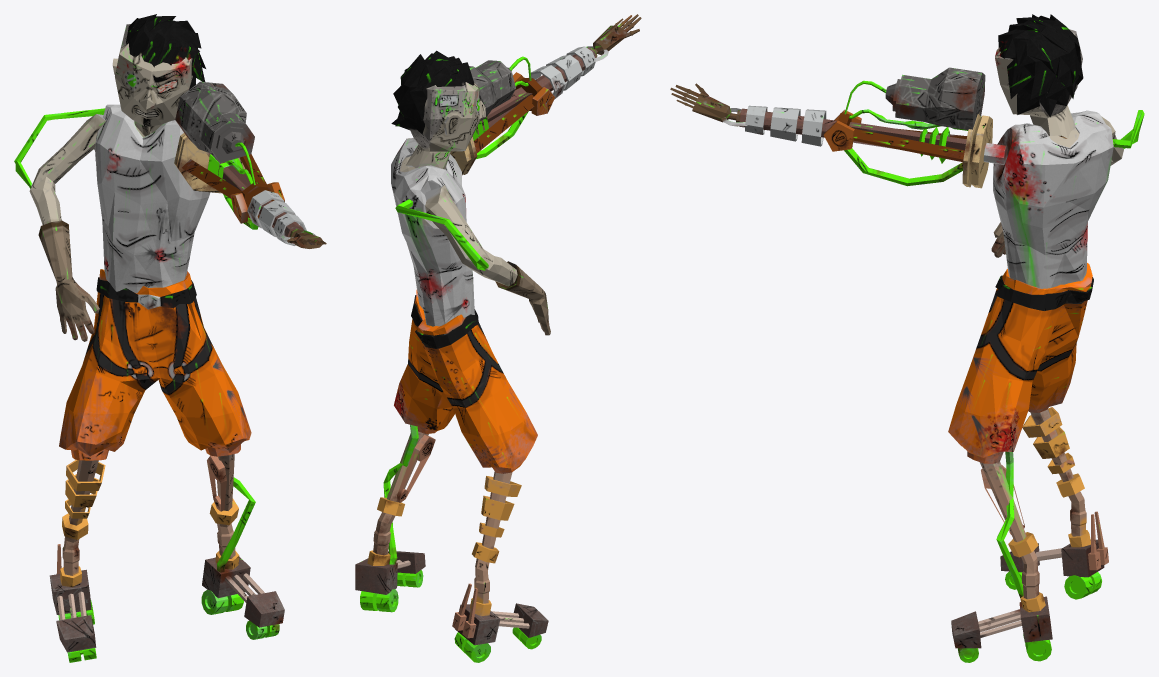
Rendered from CyborgFINALAnimation_000111.obj.
3 renders of one model, left to right at view 1: azimuth 30°, elevation 25°; view 2: azimuth 150°, elevation 25°; view 3: azimuth 270°, elevation 25°, orthographic. The views are drawn at different scales.
Parts seen in each view (by area): view 1: CyborgMesh_Cube.002; view 2: CyborgMesh_Cube.002; view 3: CyborgMesh_Cube.002.
Boxes of the visible parts, x1,y1,x2,y2 form: CyborgMesh_Cube.002: (14,14,326,662); CyborgMesh_Cube.002: (355,14,641,662); CyborgMesh_Cube.002: (670,14,1144,662).
Bounding box in the file's own units: 3.19 × 9.61 × 6.76.
